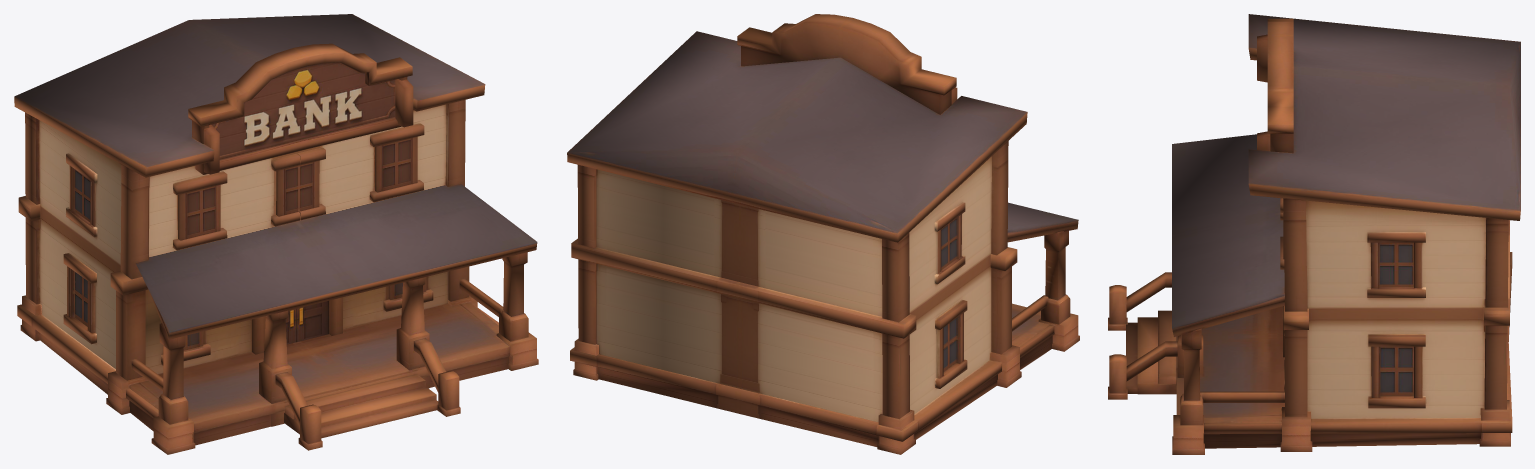
File: bank.glb
The picture shows the model from 3 angles, left to right: view 1: azimuth 30°, elevation 25°; view 2: azimuth 150°, elevation 25°; view 3: azimuth 270°, elevation 25°; orthographic projection. The views are drawn at different scales.
Visible parts, largest first — view 1: Bank; view 2: Bank; view 3: Bank.
Part boxes in pixels (x1=…): Bank: x1=14, y1=14, x2=538, y2=454; Bank: x1=567, y1=14, x2=1079, y2=454; Bank: x1=1108, y1=14, x2=1520, y2=454.
Size of what is drawn, in the model's own units: 13.48 by 11.09 by 12.67.
Materials: 1 (1 with a texture image).
